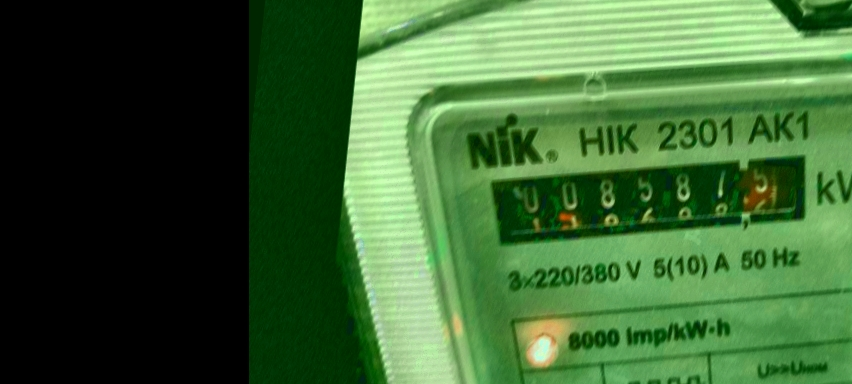0: (554, 174, 583, 211), (515, 178, 544, 213)
5: (631, 169, 657, 203), (747, 159, 772, 192)
6: (749, 195, 769, 213)
7: (706, 164, 732, 200)
8: (593, 175, 620, 209), (668, 167, 694, 202)
screen: (475, 121, 832, 278)
